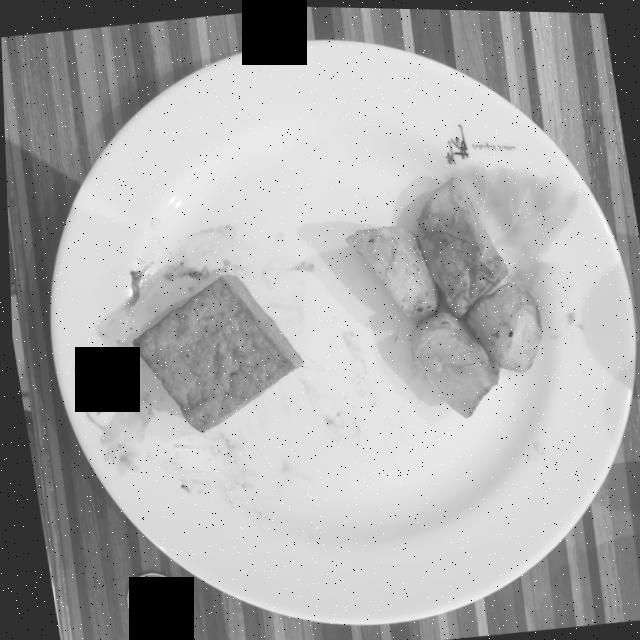coin: (122, 571, 177, 627)
egg tofu: (130, 273, 300, 431)
fried potato: (344, 175, 539, 415)
